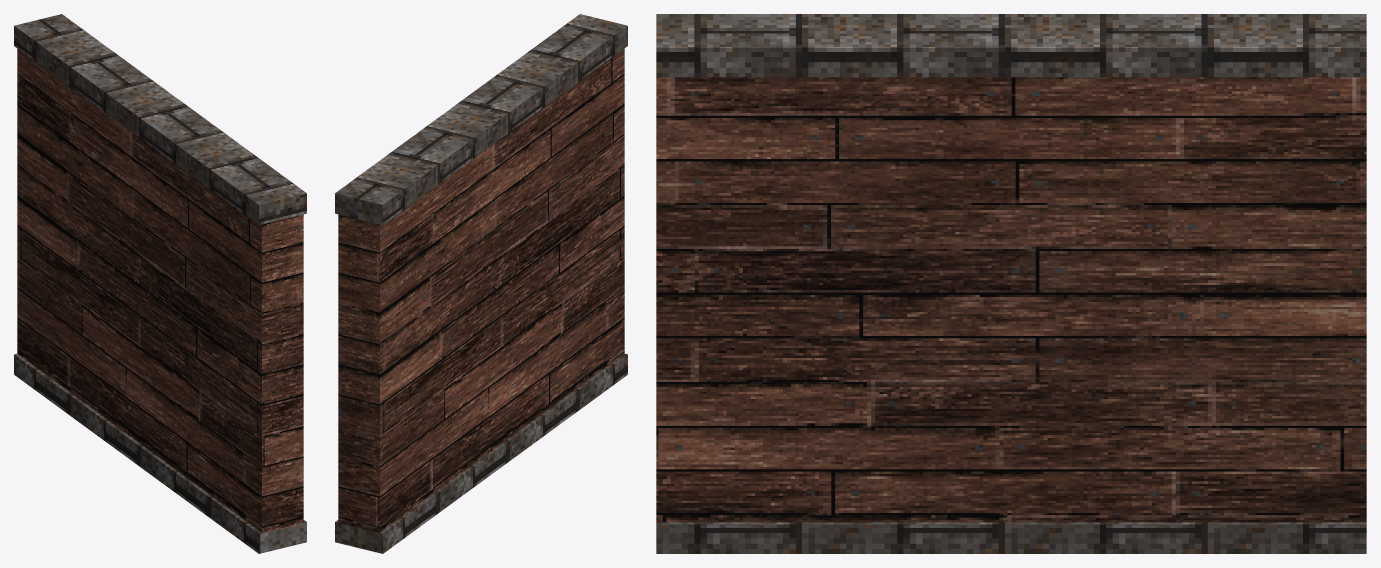
File: pixel_wall2_lowpoly.fbx
3 views of the same model, side by side, from view 1: azimuth 30°, elevation 25°; view 2: azimuth 150°, elevation 25°; view 3: azimuth 270°, elevation 25° (orthographic). The views are drawn at different scales.
Visible parts, largest first — view 1: psx_wall2_wood, psx_wall2_bricks; view 2: psx_wall2_wood, psx_wall2_bricks; view 3: psx_wall2_wood, psx_wall2_bricks.
Part boxes in pixels (box(x1,y1,x2,y2)): psx_wall2_wood: box(17, 48, 303, 532); psx_wall2_bricks: box(14, 14, 306, 553); psx_wall2_wood: box(338, 48, 624, 532); psx_wall2_bricks: box(335, 14, 627, 553); psx_wall2_wood: box(656, 77, 1366, 522); psx_wall2_bricks: box(656, 14, 1366, 553).
Bounding box in the file's own units: 28.78 × 200 × 254.
